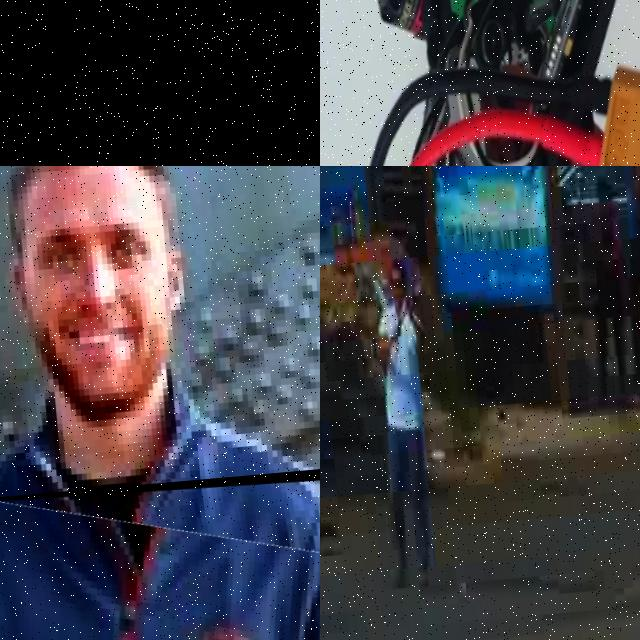drone: (0, 456, 320, 640), (0, 0, 320, 166), (320, 0, 640, 166)
